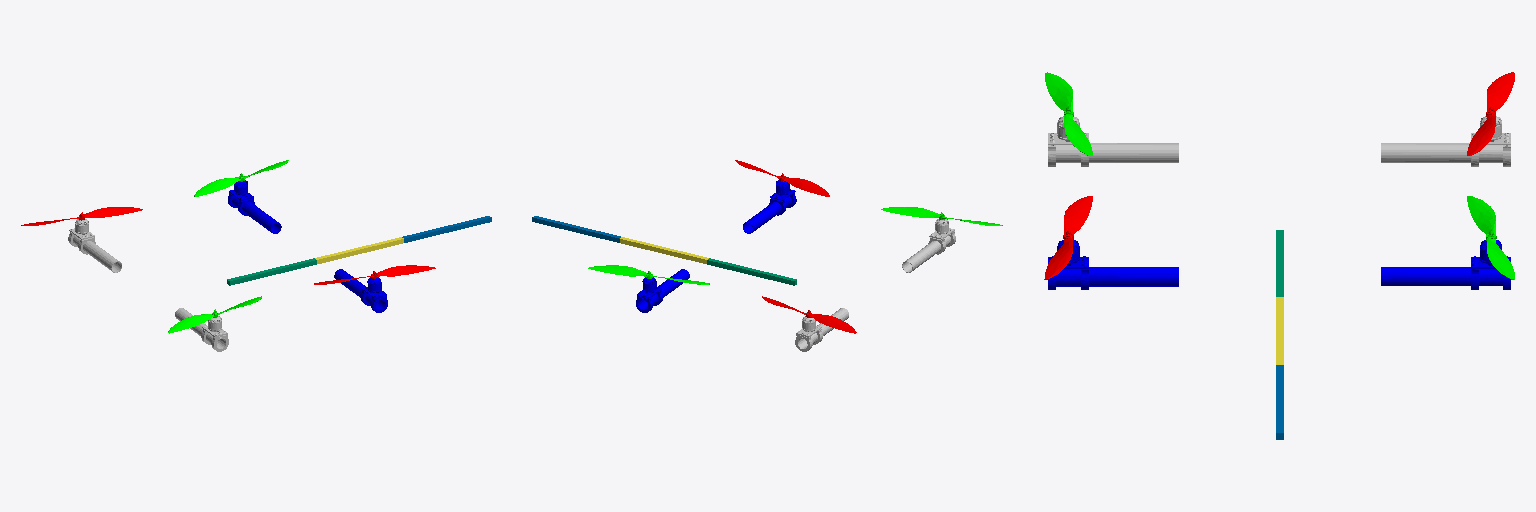
robot.urdf — lophorina:
<?xml version="1.0"?>
<robot name="lophorina">

  <material name="gray">
    <color rgba="0.8 0.8 0.8 1"/>
  </material>

  <material name="blue">
    <color rgba="0 0 1 1"/>
  </material>

  <material name="black">
    <color rgba="0 0 0 1"/>
  </material>

  <material name="red">
    <color rgba="1 0 0 1"/>
  </material>

  <material name="green">
    <color rgba="0 1 0 1"/>
  </material>

  <link name="odom">  
  </link>  

  <joint name="odom_to_base_link" type="fixed">
    <parent link="odom"/>
    <child link="base_link"/>
  </joint>

  <link name="base_link">
    <visual>
      <geometry>
        <mesh filename="package://lophorina/meshes/robot_body.stl" scale="0.001 0.001 0.001"/>
      </geometry>
      <origin rpy="0 0 1.57079632679"/>
      <material name="black"/>
    </visual>
    <collision>
      <geometry>
        <box size="0.5 0.8 0.1"/>
      </geometry>
    </collision>
    <inertial>
	  <!-- Volume:  1.2327948124e+06 -->
	  <mass value="1.5"/>

	  <!-- Center of mass:  1.4152750000e-02  7.9666542000e-01  2.5105856930e+01 -->
	  <pose>  1.4152750000e-02  7.9666542000e-01  2.5105856930e+01 0 0 0 </pose>

	  <!-- Inertia matrix -->
	  <inertia
	    ixx="4.1954149681e+04"
	    ixy="1.6912509242e-02"
	    ixz="2.2605965587e-03"
	    iyy="6.8166425968e+03"
	    iyz="-2.2634978773e+00"
	    izz="4.8089728649e+04"/>
	  
   </inertial>
  </link>

  <link name="arm0">
    <visual>
      <geometry>
         <box size="0.2 0.01 0.01"/>
      </geometry>
      <origin xyz="0.1 0 0"/>
    </visual>
  </link>

  <joint name="base_link_to_arm0" type="revolute">
    <limit effort="1000.0" velocity="0.5" lower="0" upper="0.78539816339"/>
    <parent link="base_link"/>
    <child link="arm0"/>
    <axis xyz="0 1 0"/>
    <origin xyz="0 0 0"/>
  </joint>

  <link name="arm1">
    <visual>
      <geometry>
         <box size="0.2 0.01 0.01"/>
      </geometry>
      <origin xyz="0.1 0 0"/>
    </visual>
  </link>

  <joint name="base_link_to_arm1" type="revolute">
    <limit effort="1000.0" velocity="0.5" lower="0" upper="0.78539816339"/>
    <parent link="arm0"/>
    <child link="arm1"/>
    <axis xyz="0 -1 0"/>
    <origin xyz="0.2 0 0"/>
  </joint>

  <link name="arm2">
    <visual>
      <geometry>
         <box size="0.2 0.01 0.01"/>
      </geometry>
      <origin xyz="0.1 0 0"/>
    </visual>
  </link>

  <joint name="base_link_to_arm2" type="revolute">
    <limit effort="1000.0" velocity="0.5" lower="0" upper="0.78539816339"/>
    <parent link="arm1"/>
    <child link="arm2"/>
    <axis xyz="0 -1 0"/>
    <origin xyz="0.2 0 0"/>
  </joint>

  <link name="motor_front_right">
    <visual>
      <geometry>
        <mesh filename="package://lophorina/meshes/tilt_motor.stl" scale="0.001 0.001 0.001"/>
      </geometry>
      <material name="blue"/>
      <origin rpy="0 0 1.57079632679" xyz="0 0 0"/>
    </visual>
    <inertial>
	  <!-- Volume:  4.3863842816e+04 -->
	  <mass value="0.15"/>

	  <!-- Center of mass:  1.1607480469e+02  1.2213770750e+01  1.8455069580e+01 -->
	  <pose>  1.1607480469e+02  1.2213770750e+01  1.8455069580e+01 0 0 0 </pose>

	  <!-- Inertia matrix -->
	  <inertia
	    ixx="6.5199681921e+01"
	    ixy="-1.8406174301e+00"
	    ixz="-4.4278584689e+01"
	    iyy="2.7135930913e+02"
	    iyz="-5.5408063591e-01"
	    izz="2.2968739432e+02"/>
	  
    </inertial>
  </link>

  <link name="motor_front_left">
    <visual>
      <geometry>
        <mesh filename="package://lophorina/meshes/tilt_motor.stl" scale="0.001 0.001 0.001"/>
      </geometry>
      <material name="blue"/>
      <origin rpy="0 0 -1.57079632679" xyz="0 0 0"/>
    </visual>
   <inertial>
	  <!-- Volume:  4.3863842816e+04 -->
	  <mass value="0.15"/>

	  <!-- Center of mass:  1.1607480469e+02  1.2213770750e+01  1.8455069580e+01 -->
	  <pose>  1.1607480469e+02  1.2213770750e+01  1.8455069580e+01 0 0 0 </pose>

	  <!-- Inertia matrix -->
	  <inertia
	    ixx="6.5199681921e+01"
	    ixy="-1.8406174301e+00"
	    ixz="-4.4278584689e+01"
	    iyy="2.7135930913e+02"
	    iyz="-5.5408063591e-01"
	    izz="2.2968739432e+02"/>
	
   </inertial>
  </link>

  <link name="motor_back_right">
    <visual>
      <geometry>
        <mesh filename="package://lophorina/meshes/tilt_motor.stl" scale="0.001 0.001 0.001"/>
      </geometry>
      <material name="gray"/>
      <origin rpy="0 0 1.57079632679" xyz="0 0 0"/>
    </visual>
    <inertial>
	  <!-- Volume:  4.3863842816e+04 -->
	  <mass value="0.15"/>

	  <!-- Center of mass:  1.1607480469e+02  1.2213770750e+01  1.8455069580e+01 -->
	  <pose>  1.1607480469e+02  1.2213770750e+01  1.8455069580e+01 0 0 0 </pose>

	  <!-- Inertia matrix -->
	  <inertia
	    ixx="6.5199681921e+01"
	    ixy="-1.8406174301e+00"
	    ixz="-4.4278584689e+01"
	    iyy="2.7135930913e+02"
	    iyz="-5.5408063591e-01"
	    izz="2.2968739432e+02"/>
	  
</inertial>
  </link>

  <link name="motor_back_left">
    <visual>
      <geometry>
        <mesh filename="package://lophorina/meshes/tilt_motor.stl" scale="0.001 0.001 0.001"/>
      </geometry>
      <material name="gray"/>
      <origin rpy="0 0 -1.57079632679" xyz="0 0 0"/>
    </visual>
    <inertial>
	  <!-- Volume:  4.3863842816e+04 -->
	  <mass value="0.15"/>

	  <!-- Center of mass:  1.1607480469e+02  1.2213770750e+01  1.8455069580e+01 -->
	  <pose>  1.1607480469e+02  1.2213770750e+01  1.8455069580e+01 0 0 0 </pose>

	  <!-- Inertia matrix -->
	  <inertia
	    ixx="6.5199681921e+01"
	    ixy="-1.8406174301e+00"
	    ixz="-4.4278584689e+01"
	    iyy="2.7135930913e+02"
	    iyz="-5.5408063591e-01"
	    izz="2.2968739432e+02"/>
	  
   </inertial>
  </link>

  <link name="front_right_propeller">
    <visual>
      <geometry>
        <mesh filename="package://lophorina/meshes/cw_propeller.stl" scale="0.001 0.001 0.001"/>
      </geometry>
      <origin xyz="0 0 0"/>
      <material name="green"/>
    </visual>
    <inertial>
	  <!-- Volume:  6.4020546560e+03 -->
	  <mass value="0.008"/>

	  <!-- Center of mass: -7.6309433000e-01 -1.5900170000e-02  5.6214502000e+00 -->
	  <pose> -7.6309433000e-01 -1.5900170000e-02  5.6214502000e+00 0 0 0 </pose>

	  <!-- Inertia matrix -->
	  <inertia
	    ixx="1.0083531730e+00"
	    ixy="-4.9698650900e+00"
	    ixz="-1.5181902820e-02"
	    iyy="3.3832505747e+01"
	    iyz="-1.8549383658e-03"
	    izz="3.4773160227e+01"/>
	  
   </inertial>
  </link>
  <gazebo reference="front_right_propeller">
    <material>Gazebo/Orange</material>
  </gazebo>
  <plugin name="front_right_propeller_liftDrag" filename="libLiftDragPlugin.so">
        <a0>0.4</a0>
        <cla>4.752798721</cla>
        <cda>0.6417112299</cda>
        <cma>0</cma>
        <alpha_stall>1.5</alpha_stall>
        <cla_stall>-3.85</cla_stall>
        <cda_stall>-0.9233984055</cda_stall>
        <cma_stall>0</cma_stall>
        <cp>-0.37 0 0.77</cp>
        <area>0.1</area>
        <air_density>1.2041</air_density>
        <forward>1 0 0</forward>
        <upward>0 0 1</upward>
        <link_name>front_right_propeller</link_name>
  </plugin>
  <link name="front_left_propeller">
    <visual>
      <geometry>
        <mesh filename="package://lophorina/meshes/ccw_propeller.stl" scale="0.001 0.001 0.001"/>
      </geometry>
      <material name="red"/>
    </visual>
    <inertial>
	     <!-- Volume:  6.4020546560e+03 -->
	     <mass value="0.008"/>

	     <!-- Center of mass: -1.2450975000e+00  4.7389927000e-01  5.6214502000e+00 -->
	     <pose> -1.2450975000e+00  4.7389927000e-01  5.6214502000e+00 0 0 0 </pose>

	     <!-- Inertia matrix -->
	     <inertia
	       ixx="1.0083529717e+00"
	       ixy="4.9698656267e+00"
	       ixz="-1.5182323164e-02"
	       iyy="3.3832507894e+01"
	       iyz="1.8549094082e-03"
	       izz="3.4773160227e+01"/>
	     
   </inertial>
  </link>
  <plugin name="front_left_propeller_liftDrag" filename="libLiftDragPlugin.so">
        <a0>0.4</a0>
        <cla>4.752798721</cla>
        <cda>0.6417112299</cda>
        <cma>0</cma>
        <alpha_stall>1.5</alpha_stall>
        <cla_stall>-3.85</cla_stall>
        <cda_stall>-0.9233984055</cda_stall>
        <cma_stall>0</cma_stall>
        <cp>-0.37 0 0.77</cp>
        <area>0.1</area>
        <air_density>1.2041</air_density>
        <forward>1 0 0</forward>
        <upward>0 0 1</upward>
        <link_name>front_left_propeller</link_name>
  </plugin>
  <link name="back_left_propeller">
    <visual>
      <geometry>
        <mesh filename="package://lophorina/meshes/cw_propeller.stl" scale="0.001 0.001 0.001"/>
      </geometry>
      <material name="green"/>
    </visual>
    <inertial>
	  <!-- Volume:  6.4020546560e+03 -->
	  <mass value="0.008"/>

	  <!-- Center of mass: -7.6309433000e-01 -1.5900170000e-02  5.6214502000e+00 -->
	  <pose> -7.6309433000e-01 -1.5900170000e-02  5.6214502000e+00 0 0 0 </pose>

	  <!-- Inertia matrix -->
	  <inertia
	    ixx="1.0083531730e+00"
	    ixy="-4.9698650900e+00"
	    ixz="-1.5181902820e-02"
	    iyy="3.3832505747e+01"
	    iyz="-1.8549383658e-03"
	    izz="3.4773160227e+01"/>
	  
   </inertial>
  </link>
  <plugin name="back_left_propeller_liftDrag" filename="libLiftDragPlugin.so">
        <a0>0.4</a0>
        <cla>4.752798721</cla>
        <cda>0.6417112299</cda>
        <cma>0</cma>
        <alpha_stall>1.5</alpha_stall>
        <cla_stall>-3.85</cla_stall>
        <cda_stall>-0.9233984055</cda_stall>
        <cma_stall>0</cma_stall>
        <cp>-0.37 0 0.77</cp>
        <area>0.1</area>
        <air_density>1.2041</air_density>
        <forward>1 0 0</forward>
        <upward>0 0 1</upward>
        <link_name>back_left_propeller</link_name>
  </plugin>
  <link name="back_right_propeller">
    <visual>
      <geometry>
        <mesh filename="package://lophorina/meshes/ccw_propeller.stl" scale="0.001 0.001 0.001"/>
      </geometry>
      <material name="red"/>
    </visual>
    <inertial>
	<!-- Volume:  6.4020546560e+03 -->
	<mass value="0.008"/>

	<!-- Center of mass: -1.2450975000e+00  4.7389927000e-01  5.6214502000e+00 -->
	<pose> -1.2450975000e+00  4.7389927000e-01  5.6214502000e+00 0 0 0 </pose>

	<!-- Inertia matrix -->
	<inertia
	 ixx="1.0083529717e+00"
	    ixy="4.9698656267e+00"
	    ixz="-1.5182323164e-02"
	    iyy="3.3832507894e+01"
	    iyz="1.8549094082e-03"
	    izz="3.4773160227e+01"/>
	
   </inertial>
  </link>
  <plugin name="back_right_propeller_liftDrag" filename="libLiftDragPlugin.so">
        <a0>0.4</a0>
        <cla>4.752798721</cla>
        <cda>0.6417112299</cda>
        <cma>0</cma>
        <alpha_stall>1.5</alpha_stall>
        <cla_stall>-3.85</cla_stall>
        <cda_stall>-0.9233984055</cda_stall>
        <cma_stall>0</cma_stall>
        <cp>-0.37 0 0.77</cp>
        <area>0.1</area>
        <air_density>1.2041</air_density>
        <forward>1 0 0</forward>
        <upward>0 0 1</upward>
        <link_name>back_right_propeller</link_name>
  </plugin>
  <joint name="base_link_to_motor_front_right" type="revolute">
    <limit effort="1000.0" velocity="0.5" lower="-0.78539816339" upper="0.78539816339"/>
    <parent link="base_link"/>
    <child link="motor_front_right"/>
    <axis xyz="0 1 0"/>
    <origin xyz="0.1825 0.126 0.025"/>
  </joint>

  <transmission name="base_link_to_motor_front_right_trans">
    <type>transmission_interface/SimpleTransmission</type>
    <actuator name="$base_link_to_motor_front_right_motor">
      <mechanicalReduction>1</mechanicalReduction>
    </actuator>
    <joint name="base_link_to_motor_front_right">
      <hardwareInterface>hardware_interface/PositionJointInterface</hardwareInterface>
    </joint>
  </transmission>

  <joint name="base_link_to_motor_front_left" type="revolute">
    <limit effort="1000.0" velocity="0.5" lower="-0.78539816339" upper="0.78539816339"/>
    <parent link="base_link"/>
    <child link="motor_front_left"/>
    <axis xyz="0 1 0"/>
    <origin xyz="0.1825 -0.126 0.025"/>
  </joint>

  <transmission name="base_link_to_motor_front_left_trans">
    <type>transmission_interface/SimpleTransmission</type>
    <actuator name="$base_link_to_motor_front_left_motor">
      <mechanicalReduction>1</mechanicalReduction>
    </actuator>
    <joint name="base_link_to_motor_front_left">
      <hardwareInterface>hardware_interface/PositionJointInterface</hardwareInterface>
    </joint>
  </transmission>

  <joint name="base_link_to_motor_back_right" type="revolute">
    <limit effort="1000.0" velocity="0.5" lower="-0.78539816339" upper="0.78539816339"/>
    <parent link="base_link"/>
    <child link="motor_back_right"/>
    <axis xyz="0 1 0"/>
    <origin xyz="-0.1825 0.126 0.025"/>
  </joint>

  <transmission name="base_link_to_motor_back_right_trans">
    <type>transmission_interface/SimpleTransmission</type>
    <actuator name="$base_link_to_motor_back_right_motor">
      <mechanicalReduction>1</mechanicalReduction>
    </actuator>
    <joint name="base_link_to_motor_back_right">
      <hardwareInterface>hardware_interface/PositionJointInterface</hardwareInterface>
    </joint>
  </transmission>

  <joint name="base_link_to_motor_back_left" type="revolute">
    <limit effort="1000.0" velocity="0.5" lower="-0.78539816339" upper="0.78539816339"/>
    <parent link="base_link"/>
    <child link="motor_back_left"/>
    <axis xyz="0 1 0"/>
    <origin xyz="-0.1825 -0.126 0.025"/>
  </joint>

  <transmission name="base_link_to_motor_back_left_trans">
    <type>transmission_interface/SimpleTransmission</type>
    <actuator name="$base_link_to_motor_back_left_motor">
      <mechanicalReduction>1</mechanicalReduction>
    </actuator>
    <joint name="base_link_to_motor_back_left">
      <hardwareInterface>hardware_interface/PositionJointInterface</hardwareInterface>
    </joint>
  </transmission>

  <joint name="motor_front_right_to_front_right_propeller" type="continuous">
    <parent link="motor_front_right"/>
    <child link="front_right_propeller"/>
    <axis xyz="0 0 1"/>
    <origin xyz="0 0.138 0.05"/>
  </joint>

  <transmission name="motor_front_right_to_front_right_propeller_trans">
    <type>transmission_interface/SimpleTransmission</type>
    <actuator name="$motor_front_right_to_front_right_propeller_motor">
      <mechanicalReduction>1</mechanicalReduction>
    </actuator>
    <joint name="motor_front_right_to_front_right_propeller">
      <hardwareInterface>hardware_interface/VelocityJointInterface</hardwareInterface>
    </joint>
  </transmission>

  <joint name="motor_front_left_to_front_left_propeller" type="continuous">
    <parent link="motor_front_left"/>
    <child link="front_left_propeller"/>
    <axis xyz="0 0 1"/>
    <origin xyz="0 -0.138 0.05"/>
  </joint>

  <transmission name="motor_front_left_to_front_left_propeller_trans">
    <type>transmission_interface/SimpleTransmission</type>
    <actuator name="$motor_front_left_to_front_left_propeller_motor">
      <mechanicalReduction>1</mechanicalReduction>
    </actuator>
    <joint name="motor_front_left_to_front_left_propeller">
      <hardwareInterface>hardware_interface/VelocityJointInterface</hardwareInterface>
    </joint>
  </transmission>

  <joint name="motor_back_right_to_back_right_propeller" type="continuous">
    <parent link="motor_back_right"/>
    <child link="back_right_propeller"/>
    <axis xyz="0 0 1"/>
    <origin xyz="0 0.138 0.05"/>
  </joint>

  <transmission name="motor_back_right_to_back_right_propeller_trans">
    <type>transmission_interface/SimpleTransmission</type>
    <actuator name="$motor_back_right_to_back_right_propeller_motor">
      <mechanicalReduction>1</mechanicalReduction>
    </actuator>
    <joint name="motor_back_right_to_back_right_propeller">
      <hardwareInterface>hardware_interface/VelocityJointInterface</hardwareInterface>
    </joint>
  </transmission>

  <joint name="motor_back_left_to_back_left_propeller" type="continuous">
    <parent link="motor_back_left"/>
    <child link="back_left_propeller"/>
    <axis xyz="0 0 1"/>
    <origin xyz="0 -0.138 0.05"/>
  </joint>

  <transmission name="motor_back_left_to_back_left_propeller_trans">
    <type>transmission_interface/SimpleTransmission</type>
    <actuator name="$motor_back_left_to_back_left_propeller_motor">
      <mechanicalReduction>1</mechanicalReduction>
    </actuator>
    <joint name="motor_back_left_to_back_left_propeller">
      <hardwareInterface>hardware_interface/VelocityJointInterface</hardwareInterface>
    </joint>
  </transmission>

  <!-- Gazebo plugin for ROS Control -->
  <gazebo>
    <plugin name="gazebo_ros_control" filename="libgazebo_ros_control.so">
      <robotNamespace>/</robotNamespace>
    </plugin>
  </gazebo>

</robot>

--- Facts derived from the render (not from the file) ---
3 views of the same robot in one strip: view 1: azimuth 30°, elevation 25°; view 2: azimuth 150°, elevation 25°; view 3: azimuth 270°, elevation 25° (orthographic).
Robot: lophorina — 13 links, 12 joints (7 revolute, 4 continuous, 1 fixed); root link odom; default pose: every joint at zero.
Visible links, largest first — view 1: motor_back_right, motor_front_right, motor_front_left, motor_back_left, arm0, arm2, arm1, front_left_propeller, back_right_propeller, front_right_propeller, back_left_propeller; view 2: motor_back_left, motor_front_left, motor_front_right, motor_back_right, arm0, arm2, arm1, front_right_propeller, back_left_propeller, back_right_propeller, front_left_propeller; view 3: motor_front_left, motor_back_left, motor_back_right, motor_front_right, front_left_propeller, front_right_propeller, back_left_propeller, back_right_propeller, arm2, arm1, arm0.
Link boxes in pixels (x1,y1,x2,y2): motor_back_right: [68, 219, 121, 272]; motor_front_right: [228, 180, 281, 233]; motor_front_left: [334, 269, 387, 312]; motor_back_left: [175, 308, 228, 351]; arm0: [227, 258, 316, 285]; arm2: [402, 216, 491, 242]; arm1: [315, 237, 403, 263]; front_left_propeller: [314, 265, 435, 284]; back_right_propeller: [21, 207, 142, 225]; front_right_propeller: [194, 160, 288, 196]; back_left_propeller: [168, 296, 261, 333]; motor_back_left: [902, 219, 955, 272]; motor_front_left: [743, 179, 796, 233]; motor_front_right: [636, 269, 689, 312]; motor_back_right: [795, 308, 848, 351]; arm0: [707, 258, 796, 285]; arm2: [532, 216, 620, 242]; arm1: [620, 237, 708, 263]; front_right_propeller: [588, 265, 709, 284]; back_left_propeller: [881, 207, 1002, 225]; back_right_propeller: [762, 296, 856, 333]; front_left_propeller: [735, 160, 829, 196]; motor_front_left: [1048, 240, 1178, 289]; motor_back_left: [1048, 116, 1178, 166]; motor_back_right: [1381, 116, 1510, 166]; motor_front_right: [1381, 240, 1510, 289]; front_left_propeller: [1044, 196, 1092, 279]; front_right_propeller: [1467, 196, 1514, 279]; back_left_propeller: [1045, 72, 1092, 155]; back_right_propeller: [1467, 72, 1514, 155]; arm2: [1276, 365, 1283, 439]; arm1: [1276, 297, 1283, 364]; arm0: [1276, 230, 1283, 296].
Size in the robot's own frame: 0.906 by 0.5885 by 0.0951 metres.
Meshes: 4 distinct files referenced, 8 mesh visuals loaded (3 binary STL); not drawn: 1 (reference not matched to a file when rendering).